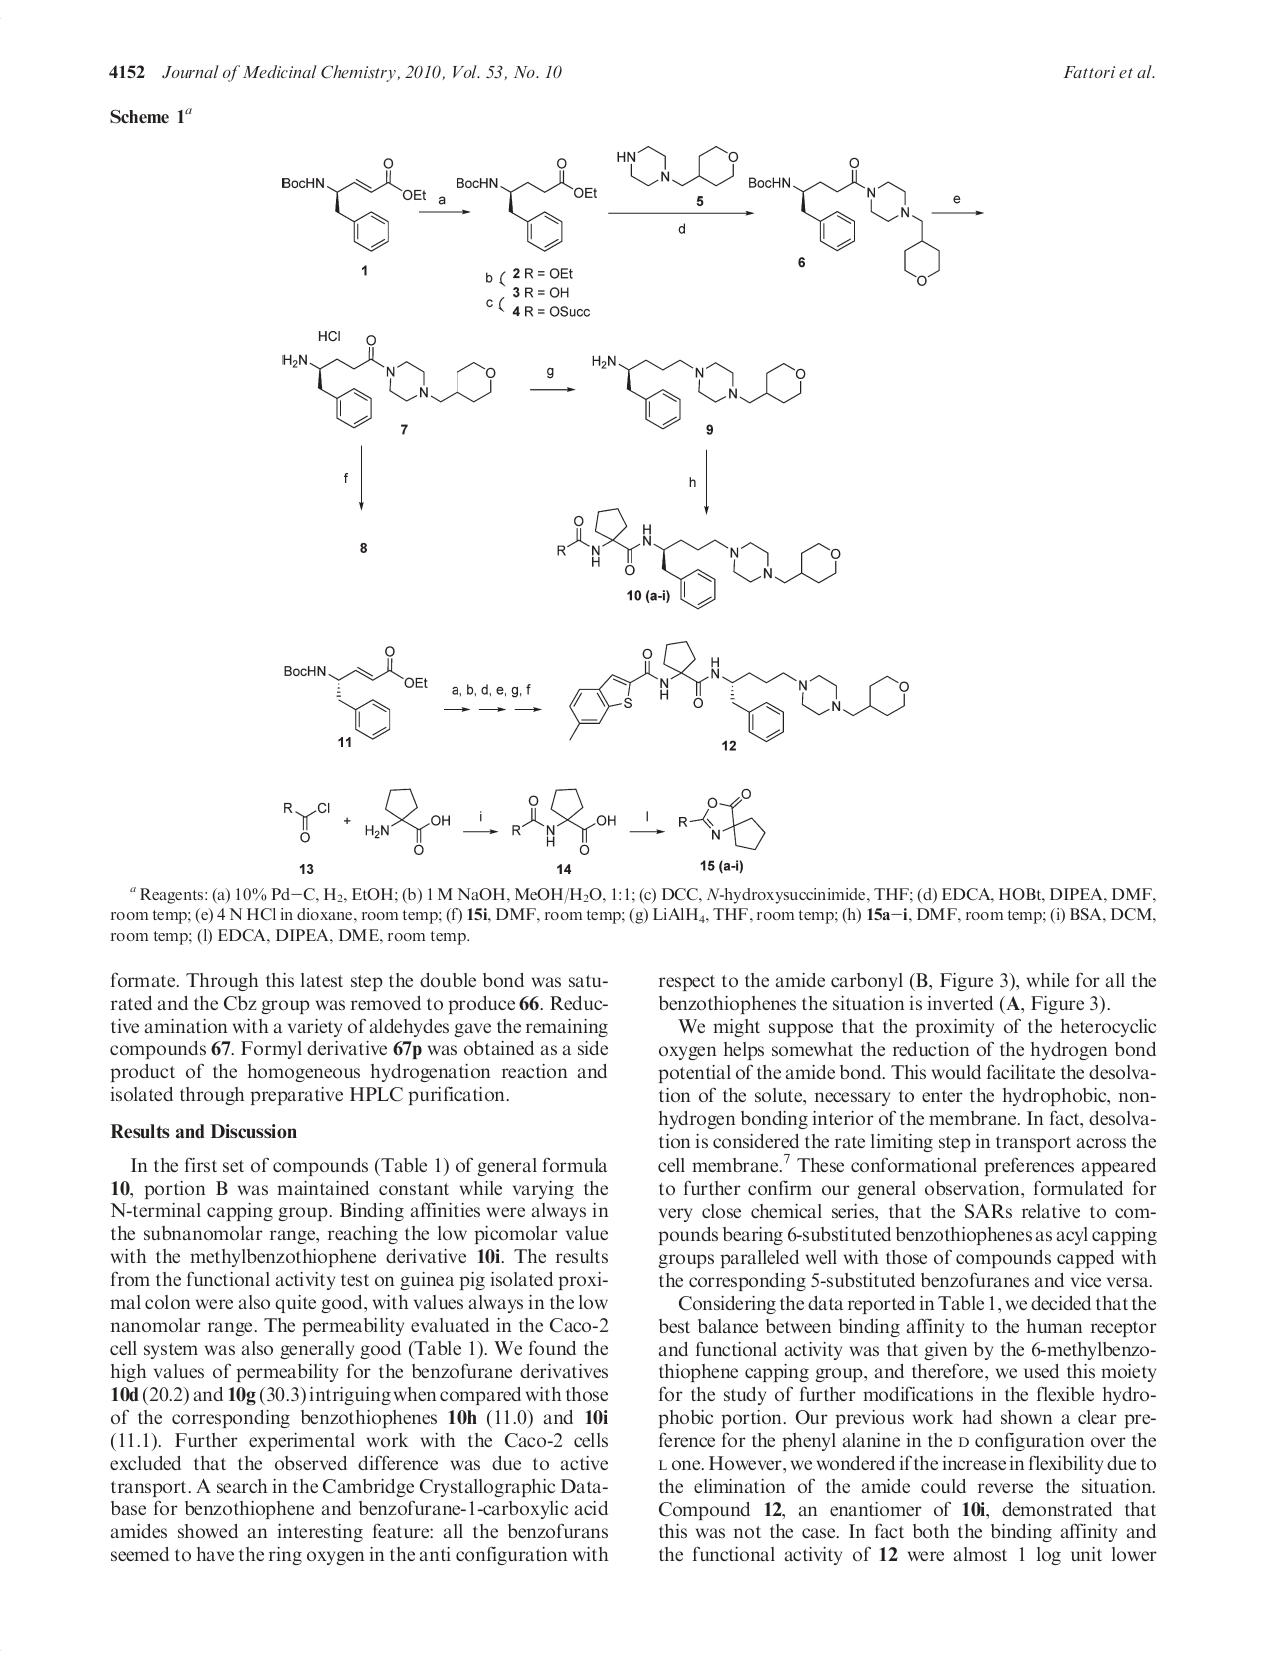exist_molecular: (555, 632, 918, 751), (547, 495, 846, 612), (747, 156, 946, 297), (275, 314, 501, 427), (582, 339, 805, 436), (273, 145, 434, 253), (278, 634, 434, 745), (453, 150, 608, 261), (508, 782, 621, 864), (614, 129, 751, 195), (666, 777, 773, 862), (359, 779, 449, 855), (278, 789, 335, 844)
